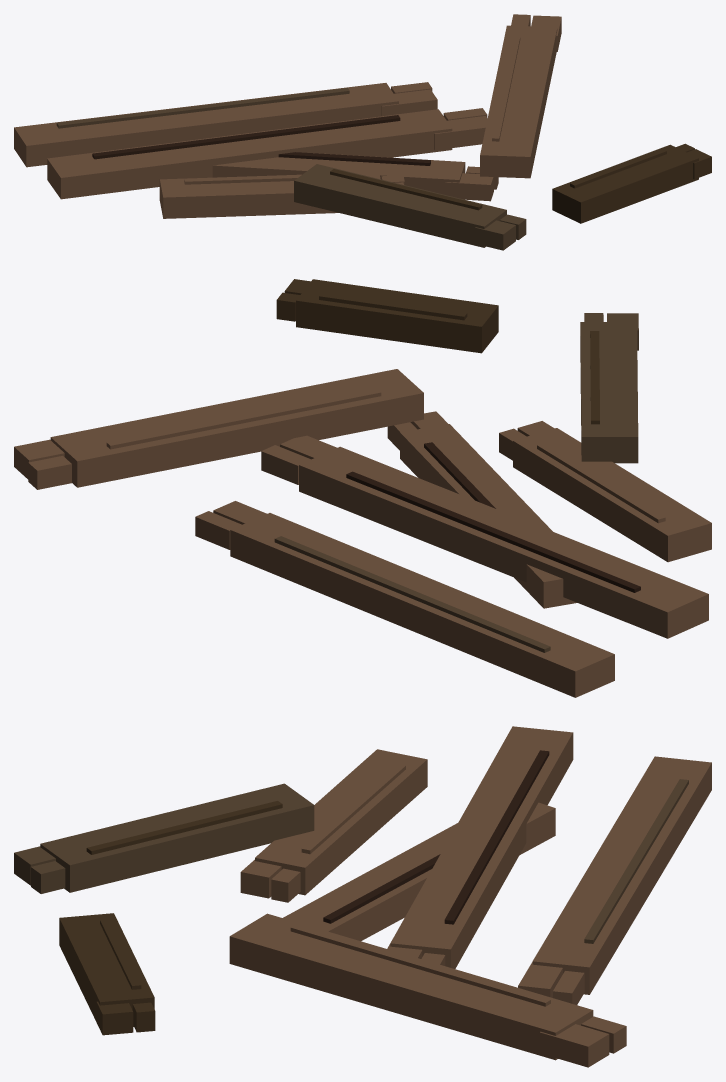
Rendered from CMU3DDecorFloorScrapwoodSouthEast.glb.
3 renders of one model, top to bottom at view 1: azimuth 30°, elevation 25°; view 2: azimuth 150°, elevation 25°; view 3: azimuth 270°, elevation 25°, orthographic. The views are drawn at different scales.
Parts seen in each view (by area): view 1: plank 3 body, plank 1 body, plank 5 body, plank 7 body, plank 6 body, plank 4 body, plank 2 body, plank 3 long grain, plank 1 long grain, plank 3 splintered end, plank 2 splintered end, plank 7 long grain (+8 smaller); view 2: plank 3 body, plank 1 body, plank 5 body, plank 4 body, plank 6 body, plank 7 body, plank 2 body, plank 3 long grain, plank 1 long grain, plank 5 long grain, plank 4 long grain, plank 6 long grain (+8 smaller); view 3: plank 5 body, plank 3 body, plank 1 body, plank 7 body, plank 4 body, plank 2 body, plank 6 body, plank 5 long grain, plank 5 splintered end, plank 3 long grain, plank 1 long grain, plank 7 long grain (+12 smaller).
Part boxes in pixels (<box>): plank 3 body: <box>47,109,452,199</box>; plank 1 body: <box>14,83,398,167</box>; plank 5 body: <box>480,25,557,178</box>; plank 7 body: <box>294,164,506,247</box>; plank 6 body: <box>552,144,698,223</box>; plank 4 body: <box>159,172,380,218</box>; plank 2 body: <box>160,144,465,194</box>; plank 3 long grain: <box>92,115,400,159</box>; plank 1 long grain: <box>56,88,349,128</box>; plank 3 splintered end: <box>434,116,487,150</box>; plank 2 splintered end: <box>445,173,493,201</box>; plank 7 long grain: <box>330,169,482,210</box>; plank 3 body: <box>299,446,708,638</box>; plank 1 body: <box>230,513,614,697</box>; plank 5 body: <box>50,369,423,487</box>; plank 4 body: <box>513,428,711,562</box>; plank 6 body: <box>296,279,498,353</box>; plank 7 body: <box>580,322,638,463</box>; plank 2 body: <box>400,424,576,608</box>; plank 3 long grain: <box>346,471,640,592</box>; plank 1 long grain: <box>274,536,550,652</box>; plank 5 long grain: <box>106,389,381,449</box>; plank 4 long grain: <box>537,443,665,523</box>; plank 6 long grain: <box>319,292,467,320</box>; plank 5 body: <box>229,913,593,1060</box>; plank 3 body: <box>390,726,573,968</box>; plank 1 body: <box>532,756,711,994</box>; plank 7 body: <box>40,783,314,892</box>; plank 4 body: <box>255,749,427,895</box>; plank 2 body: <box>283,802,555,941</box>; plank 6 body: <box>59,913,154,1026</box>; plank 5 long grain: <box>290,924,550,1006</box>; plank 5 splintered end: <box>539,1024,609,1067</box>; plank 3 long grain: <box>444,750,549,924</box>; plank 1 long grain: <box>584,779,688,943</box>; plank 7 long grain: <box>86,801,282,854</box>.
Bounding box in the file's own units: 0.7537 × 0.087 × 0.6653.
